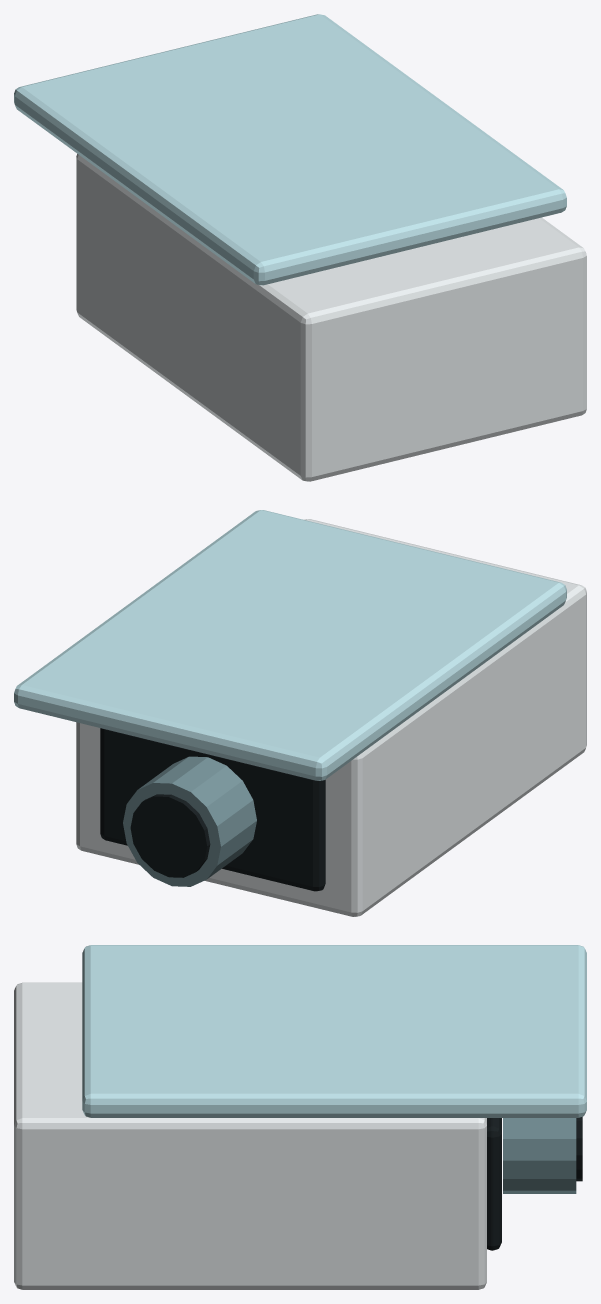
Rendered from surveillance_head.glb.
The picture shows the model from 3 angles, top to bottom: view 1: azimuth 30°, elevation 25°; view 2: azimuth 150°, elevation 25°; view 3: azimuth 270°, elevation 25°; orthographic projection. The views are drawn at different scales.
Visible parts, largest first — view 1: CCTV enamel hood, CCTV visor; view 2: CCTV visor, CCTV enamel hood, CCTV graphite face, CCTV lens barrel, CCTV optical glass; view 3: CCTV enamel hood, CCTV visor, CCTV lens barrel, CCTV graphite face, CCTV optical glass.
Boxes of the visible parts, box(x1,y1,x2,y2) form: CCTV enamel hood: box(76, 154, 586, 481); CCTV visor: box(14, 14, 566, 285); CCTV visor: box(14, 510, 566, 780); CCTV enamel hood: box(76, 519, 586, 916); CCTV graphite face: box(100, 728, 325, 891); CCTV lens barrel: box(123, 756, 256, 886); CCTV optical glass: box(130, 794, 210, 877); CCTV enamel hood: box(14, 982, 486, 1289); CCTV visor: box(82, 945, 586, 1117); CCTV lens barrel: box(503, 1118, 576, 1193); CCTV graphite face: box(487, 1118, 501, 1250); CCTV optical glass: box(576, 1116, 582, 1181).
Bounding box in the file's own units: 0.35 × 0.2125 × 0.545.
